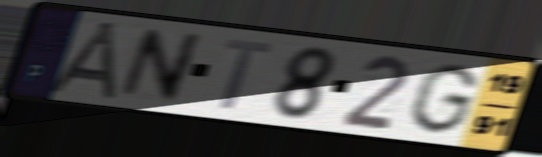2: (339, 52, 413, 133)
8: (270, 44, 338, 122)
A: (43, 19, 123, 103)
G: (404, 61, 483, 137)
N: (114, 27, 208, 106)
T: (217, 36, 276, 113)
